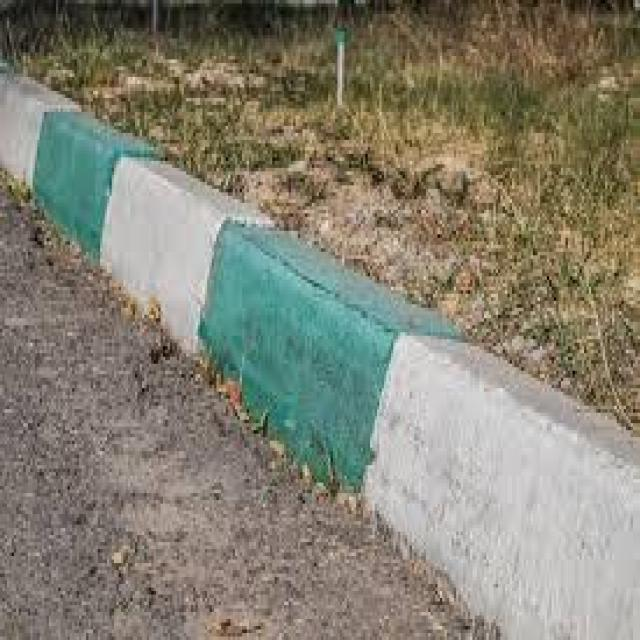curb: (303, 262, 640, 640), (115, 134, 318, 427), (2, 60, 123, 273)
